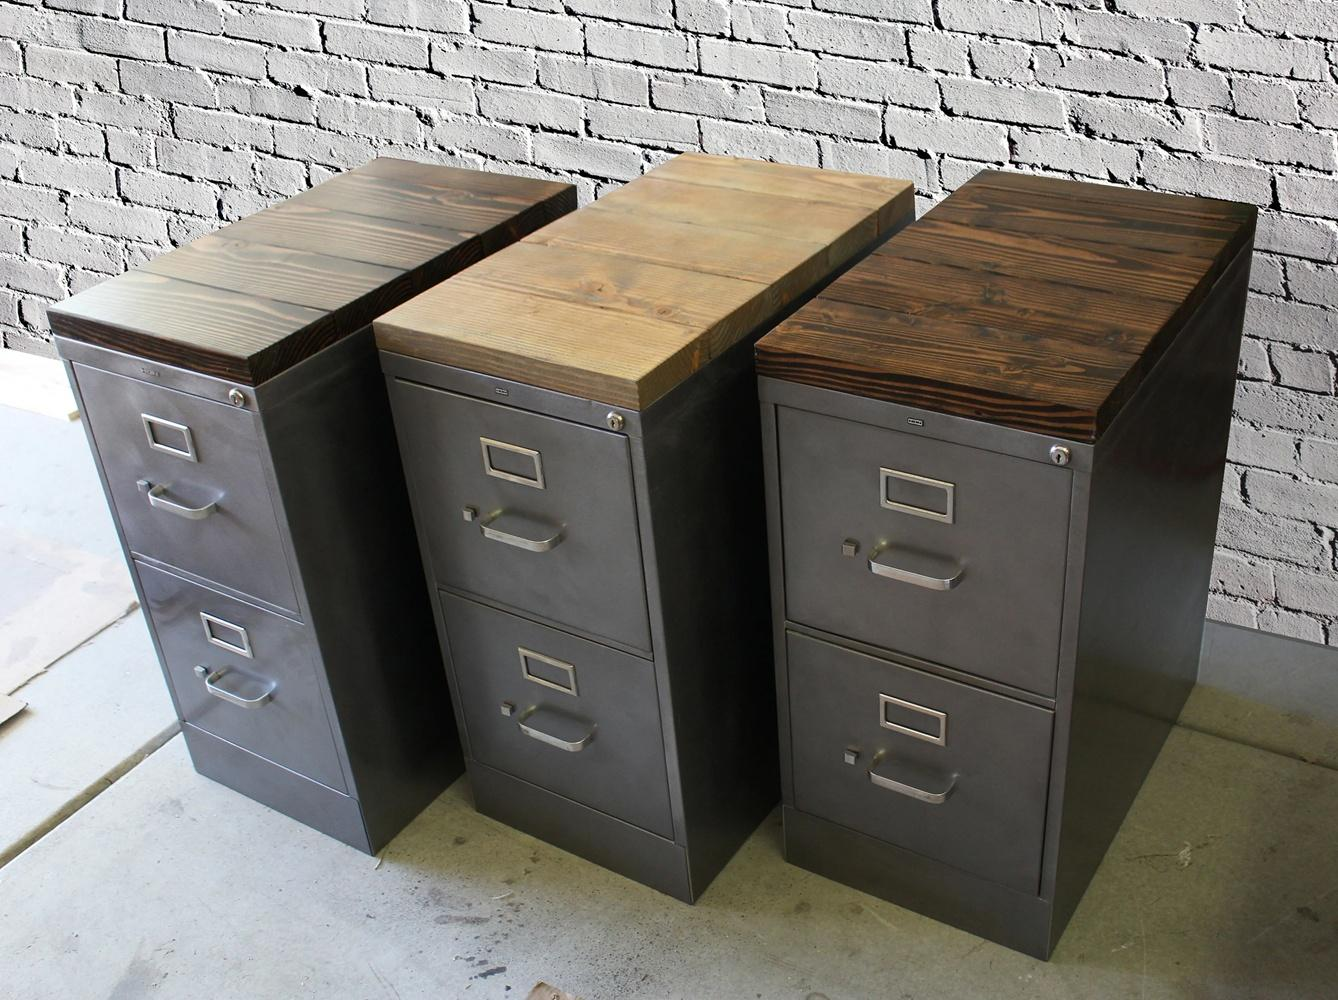Filing Cabinet: (754, 373, 1095, 963), (373, 348, 695, 902), (53, 333, 374, 856)
